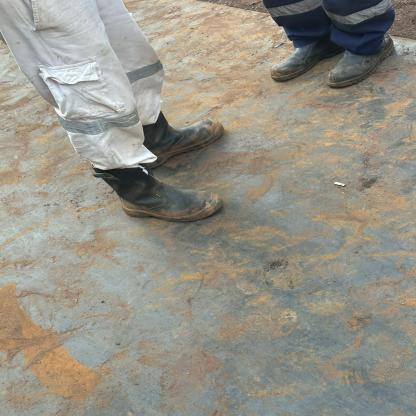bota: (94, 162, 228, 223), (125, 113, 226, 160), (324, 35, 402, 89), (265, 39, 334, 79)
